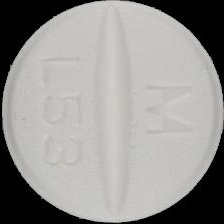0378-4253: (0, 0, 224, 224)
